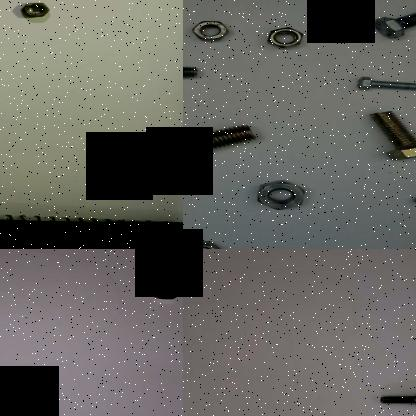Bolts: (183, 119, 257, 166), (366, 109, 416, 164), (349, 70, 416, 100), (371, 7, 416, 43), (373, 387, 416, 412), (183, 58, 208, 88)
NUTS: (230, 174, 314, 218), (260, 24, 313, 53), (183, 18, 234, 48), (145, 275, 183, 301), (13, 0, 52, 19), (183, 238, 227, 249)
